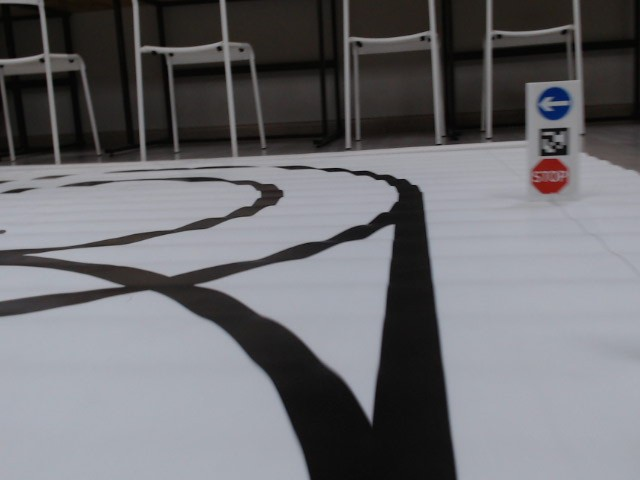Stop: (530, 159, 569, 194)
